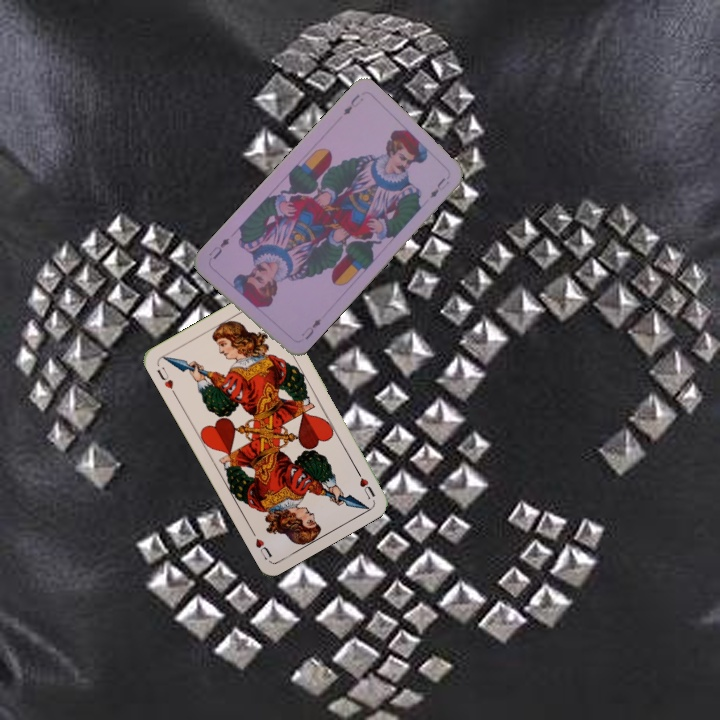EU: (297, 314, 324, 342), (339, 90, 366, 118)
HU: (352, 465, 378, 502), (153, 362, 179, 398)
